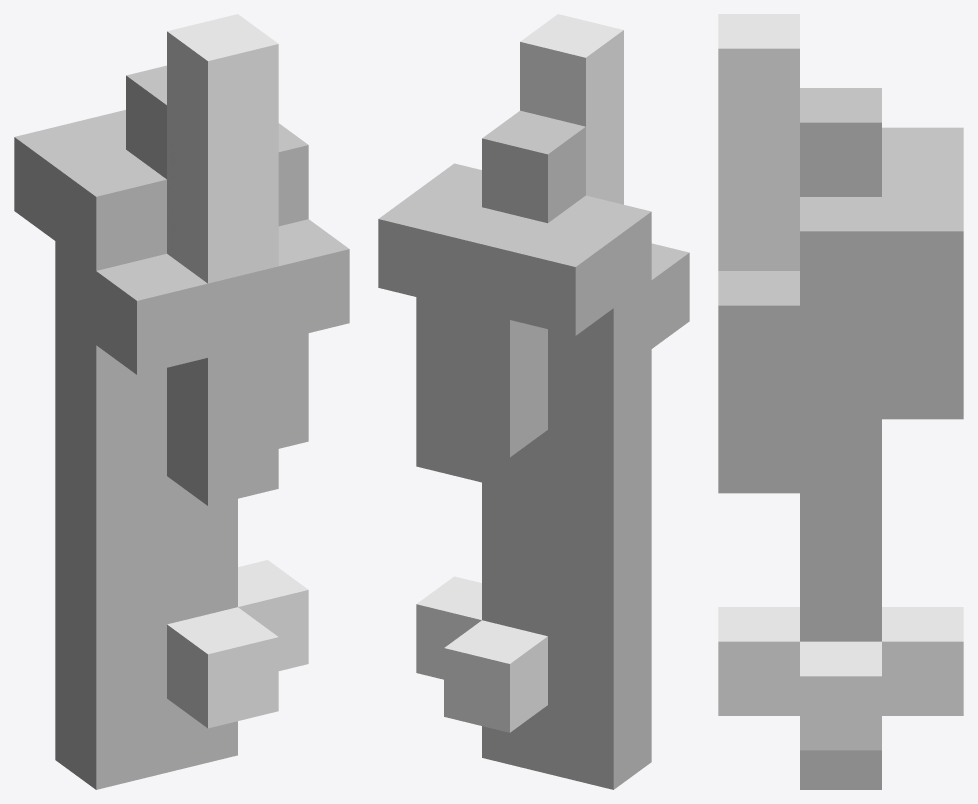
Rendered from SkelBossUpperArmL.dae.
3 views of the same model, side by side, from view 1: azimuth 30°, elevation 25°; view 2: azimuth 150°, elevation 25°; view 3: azimuth 270°, elevation 25° (orthographic). The views are drawn at different scales.
Visible parts, largest first — view 1: SkelBossUpperArmL; view 2: SkelBossUpperArmL; view 3: SkelBossUpperArmL.
Boxes of the visible parts, x1=… form: SkelBossUpperArmL: x1=14, y1=14, x2=349, y2=789; SkelBossUpperArmL: x1=378, y1=14, x2=689, y2=789; SkelBossUpperArmL: x1=718, y1=14, x2=963, y2=789.
Bounding box in the file's own units: 0.3 × 0.3 × 1.
Materials: 1 (1 with a texture image).
